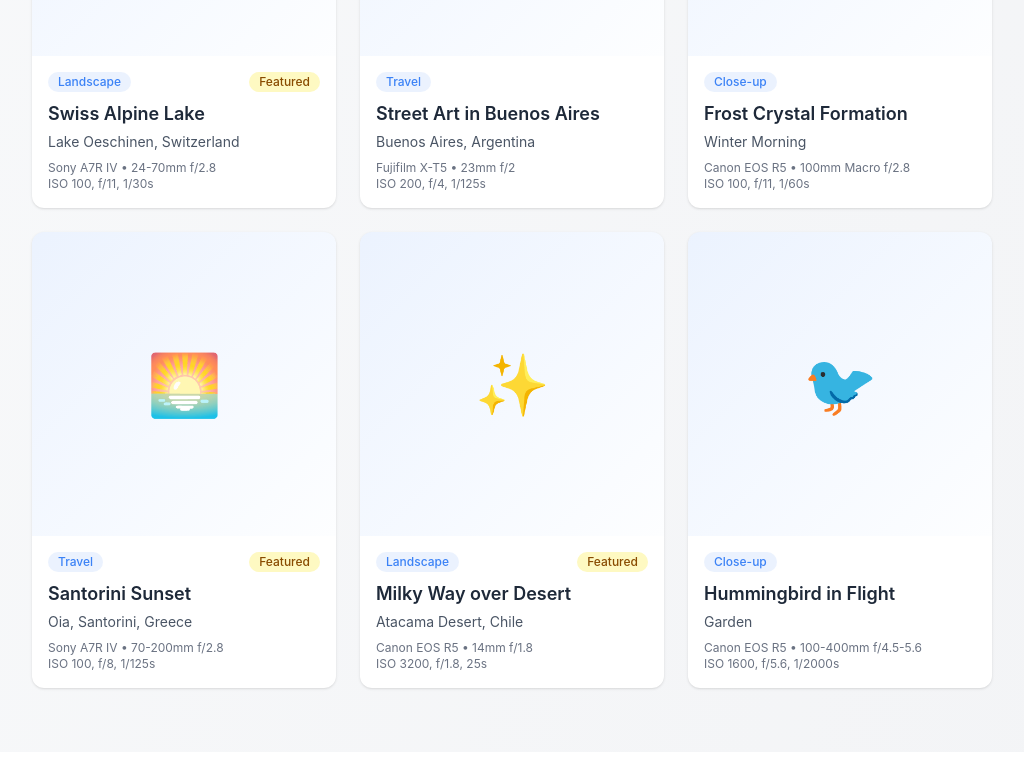
Scenario: Photography Page › Modal UX Improvements › wraps around when navigating past last photo
(page scrolled)
Step 1. Click the text "🐦" → (840, 384), box x1=802 y1=354 x2=878 y2=414
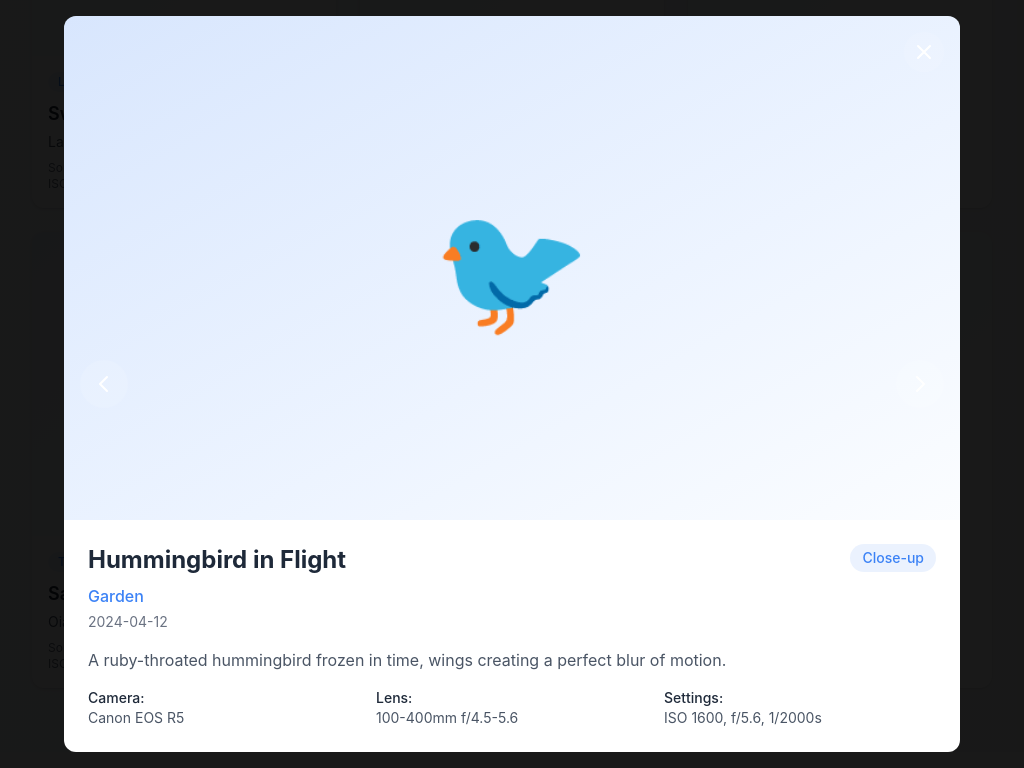
# Press right arrow key (should wrap to first photo)
Step 2. Press Arrowright
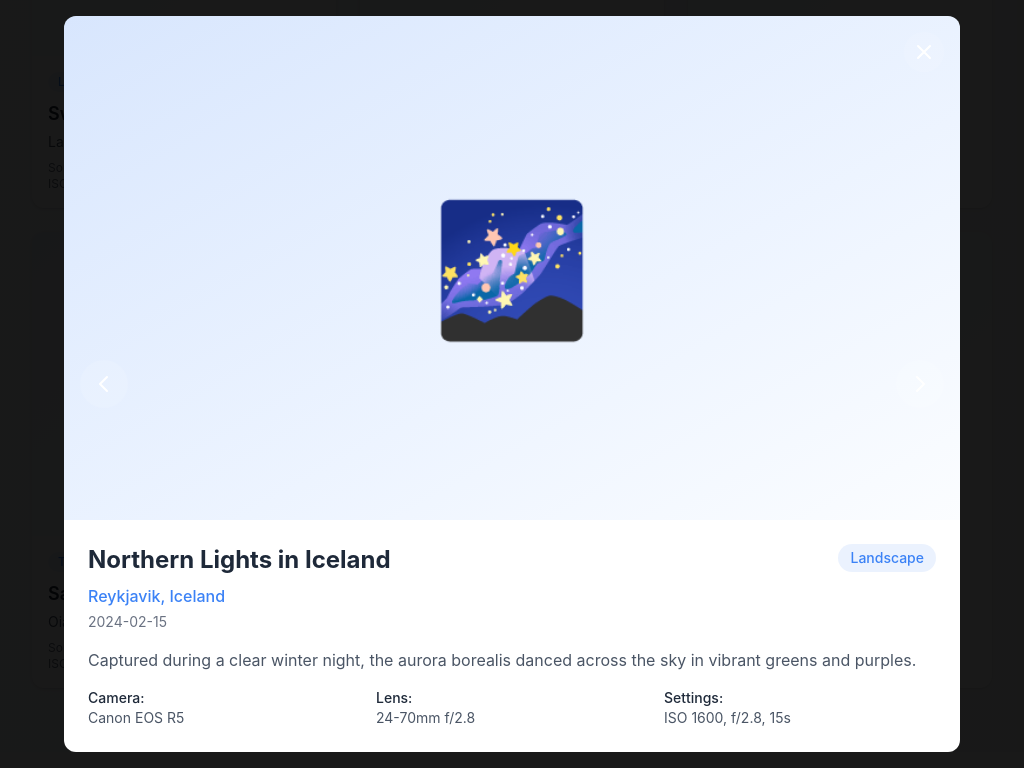
Expected: the element named "close modal" shows "🌌", x1=432 y1=190 x2=592 y2=345
